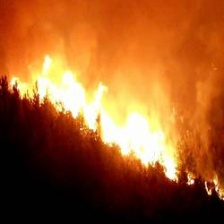fire: (10, 56, 224, 199)
